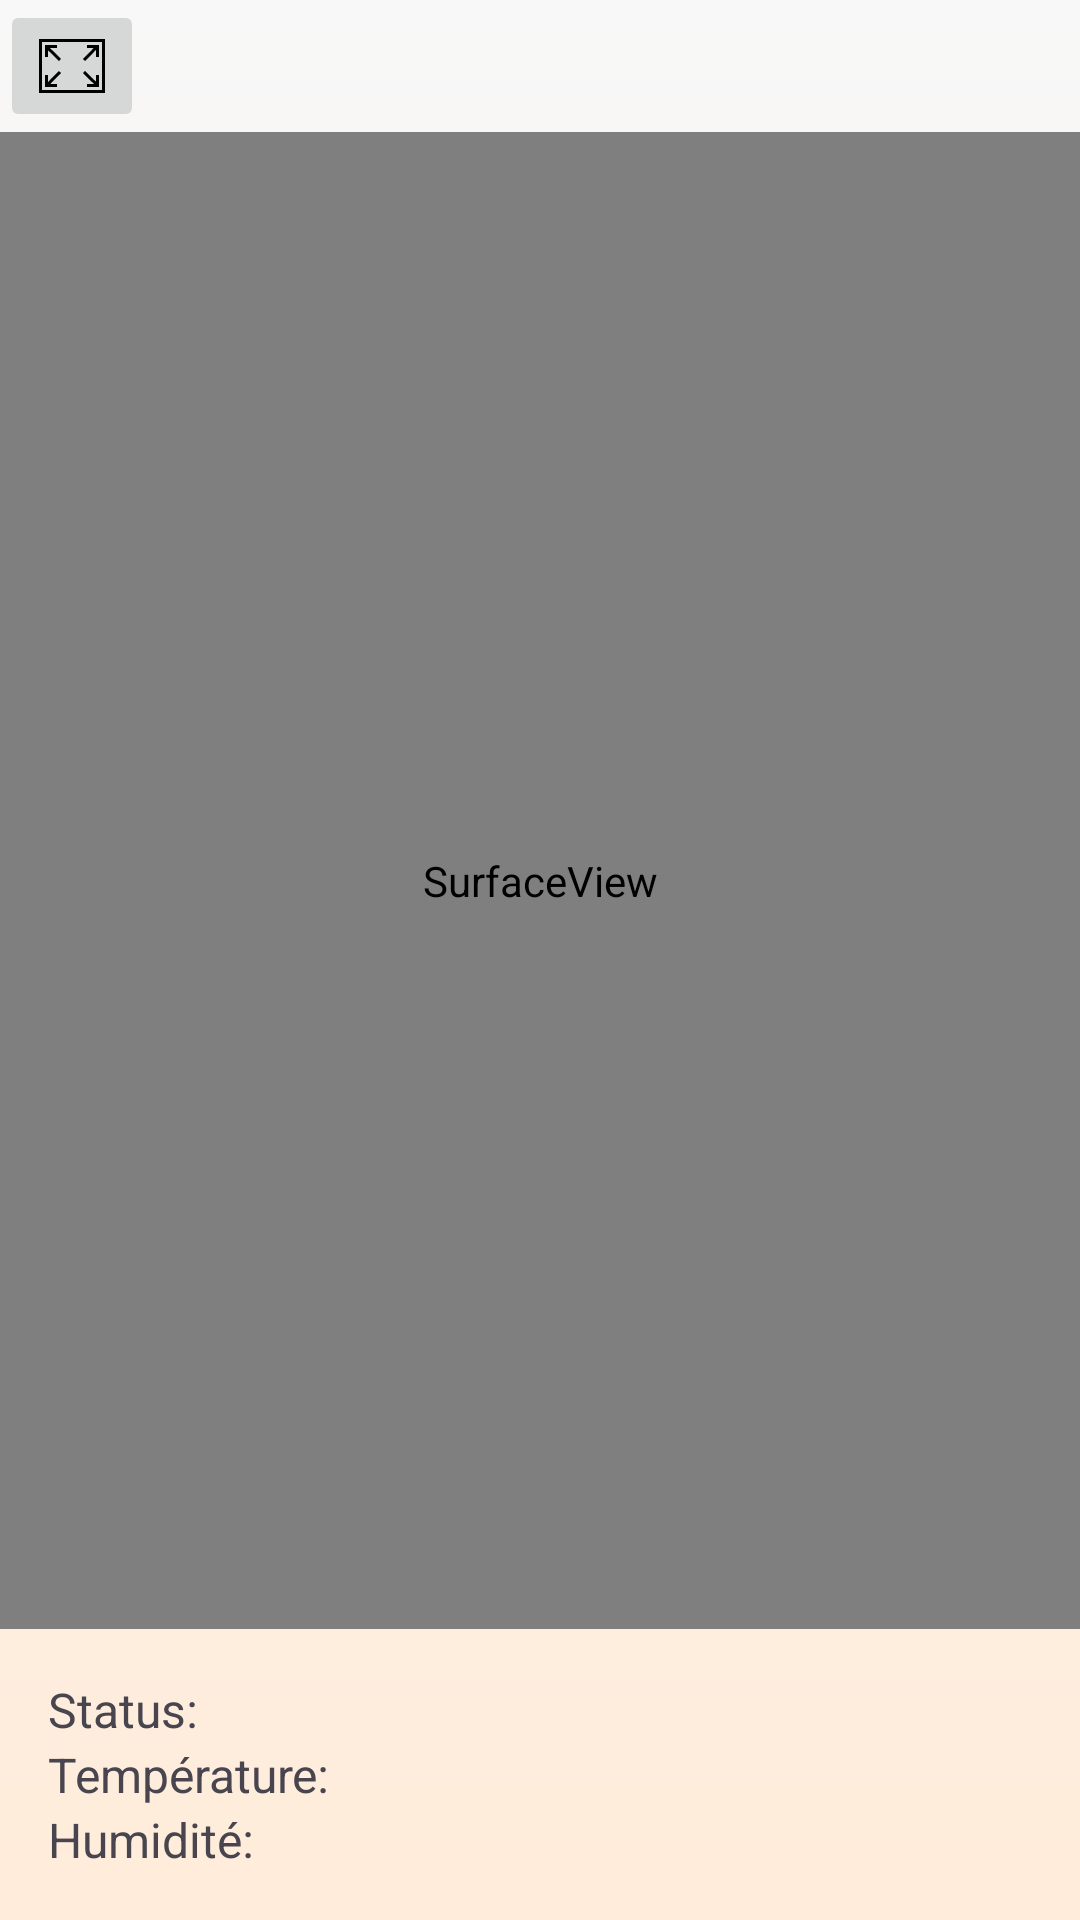

Icon bounding boxes for this 1080×1920 phone screenshot, format (x1, y1, x2, y2):
full screen: (12, 18, 132, 114)
